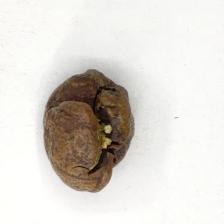NG: (57, 70, 133, 184)
